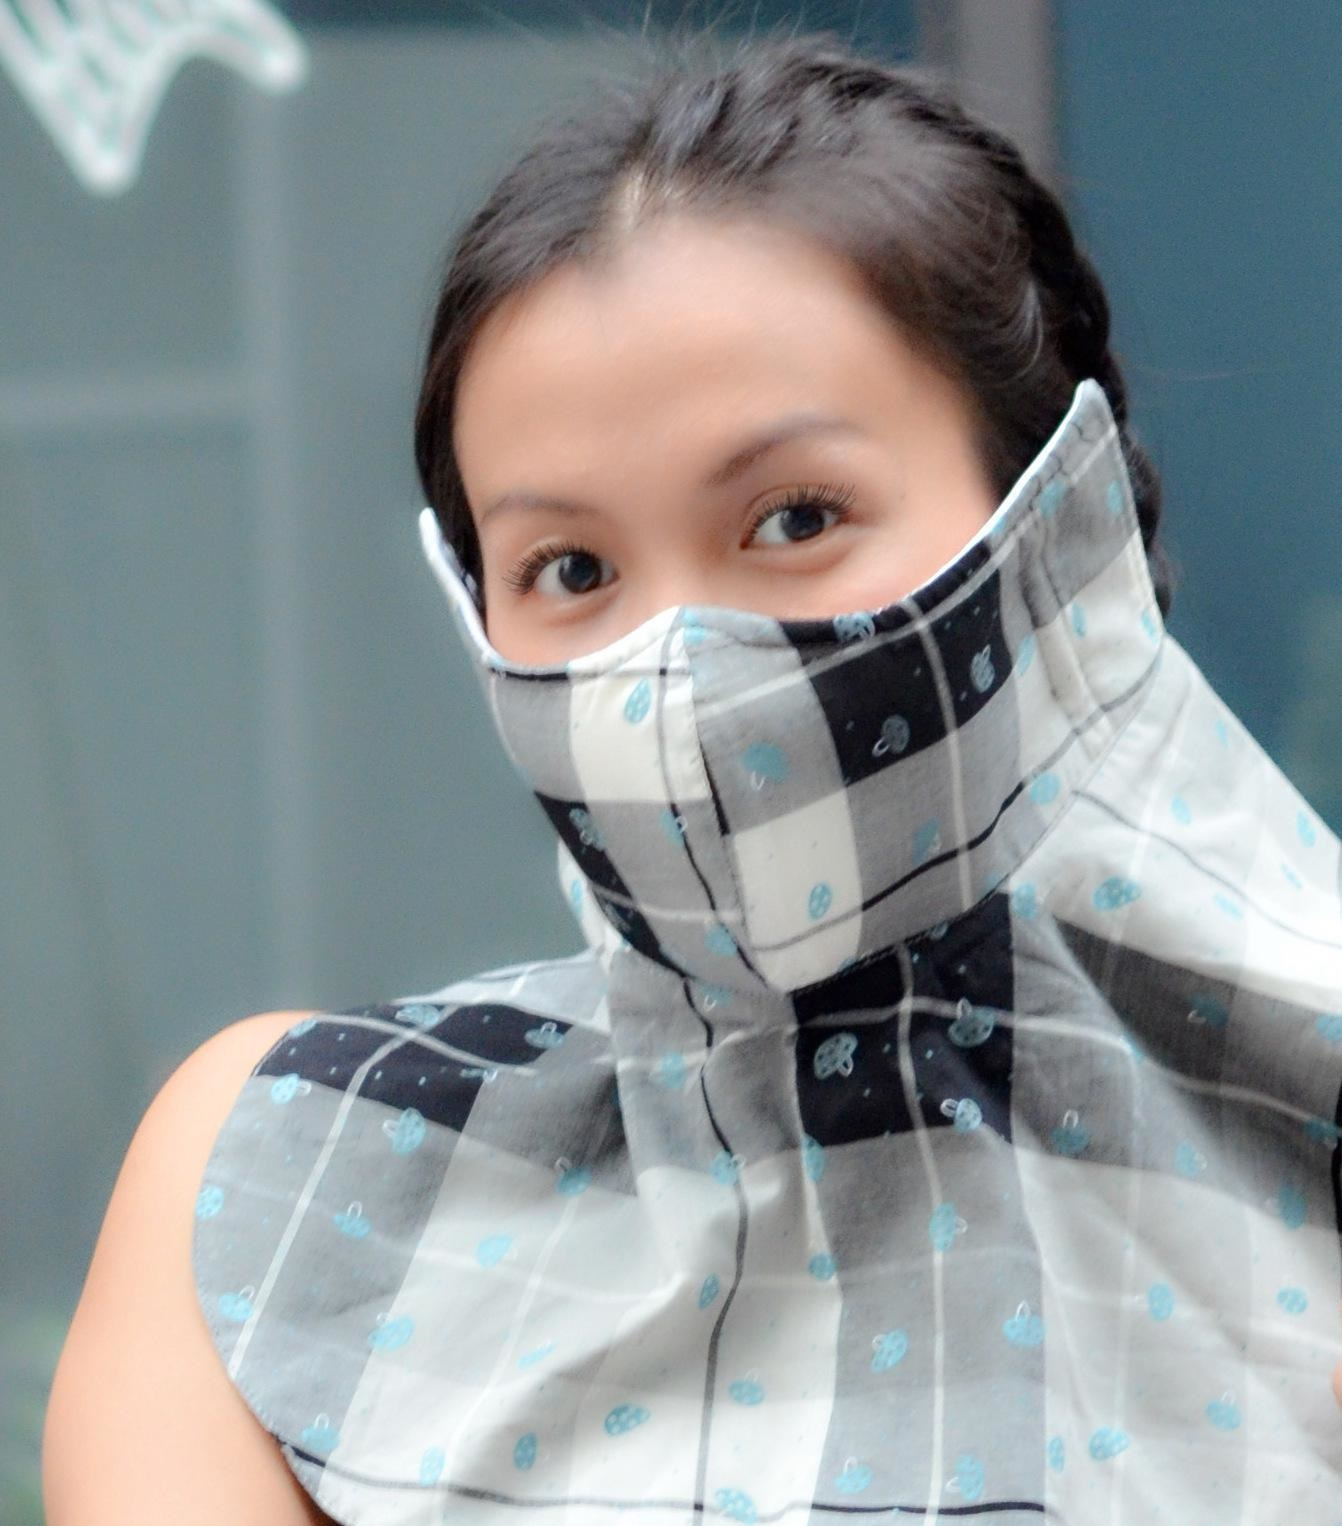face_mask: (472, 235, 1000, 975)
